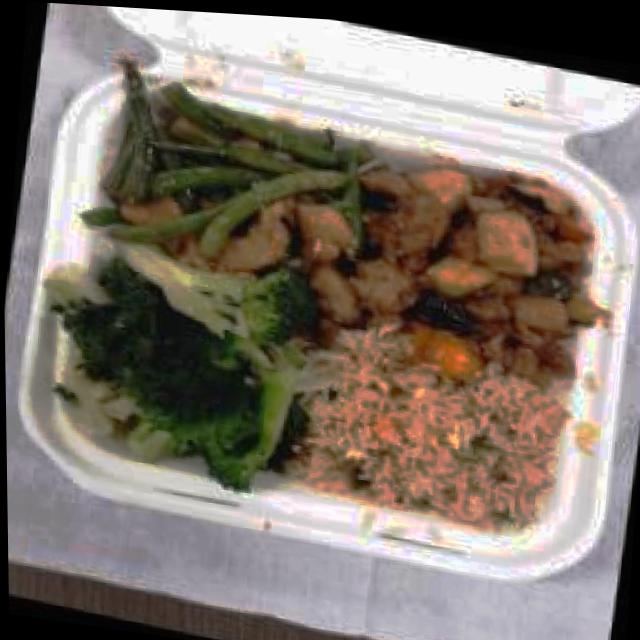Fried Rice: (305, 317, 556, 526)
Kung Pao Chicken: (384, 163, 597, 353)
String Bean Chicken Breast: (94, 61, 396, 300)
